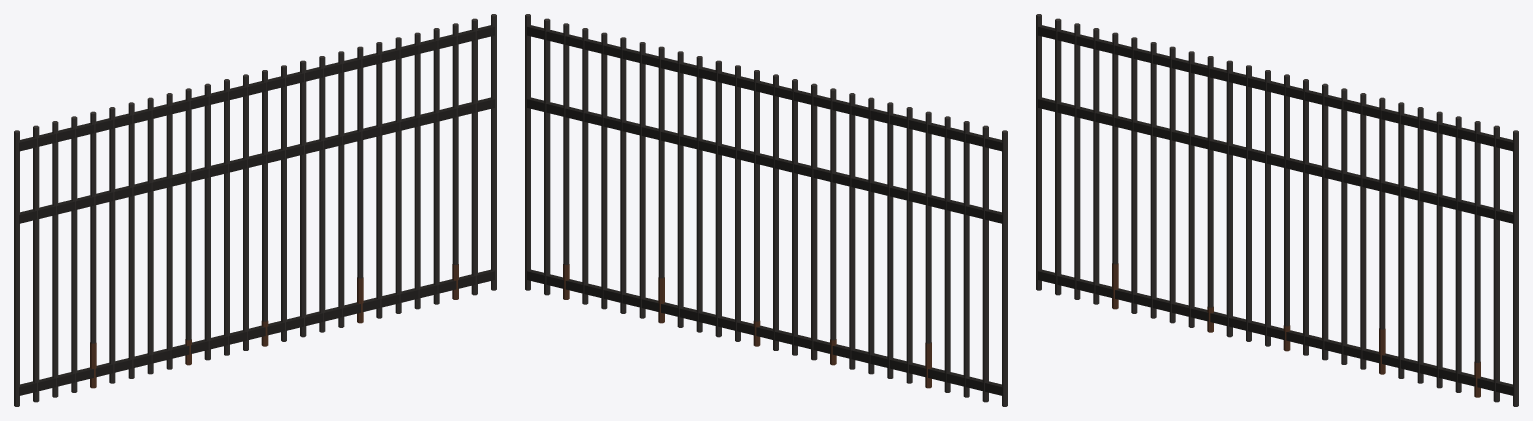
The model's file is prop-cave-bars.glb.
3 renders of one model, left to right at view 1: azimuth 30°, elevation 25°; view 2: azimuth 150°, elevation 25°; view 3: azimuth 330°, elevation 25°, orthographic.
Visible parts, largest first — view 1: CaveBars; view 2: CaveBars; view 3: CaveBars.
Boxes of the visible parts, box(x1,y1,x2,y2) form: CaveBars: box(14, 14, 496, 406); CaveBars: box(525, 14, 1007, 406); CaveBars: box(1036, 14, 1518, 406).
Bounding box in the file's own units: 4.04 × 2.2 × 0.048.
